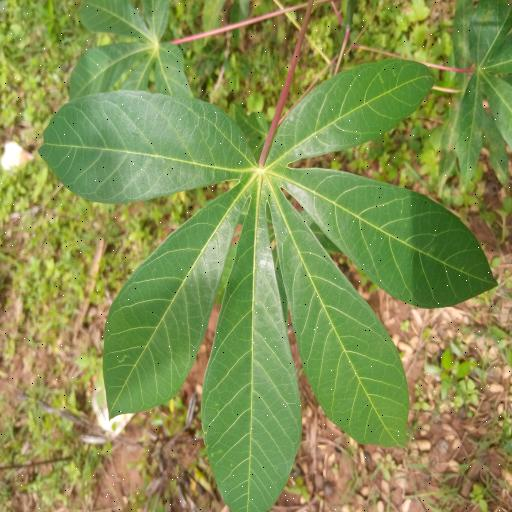Cassava_Healthy: (38, 58, 499, 512)
